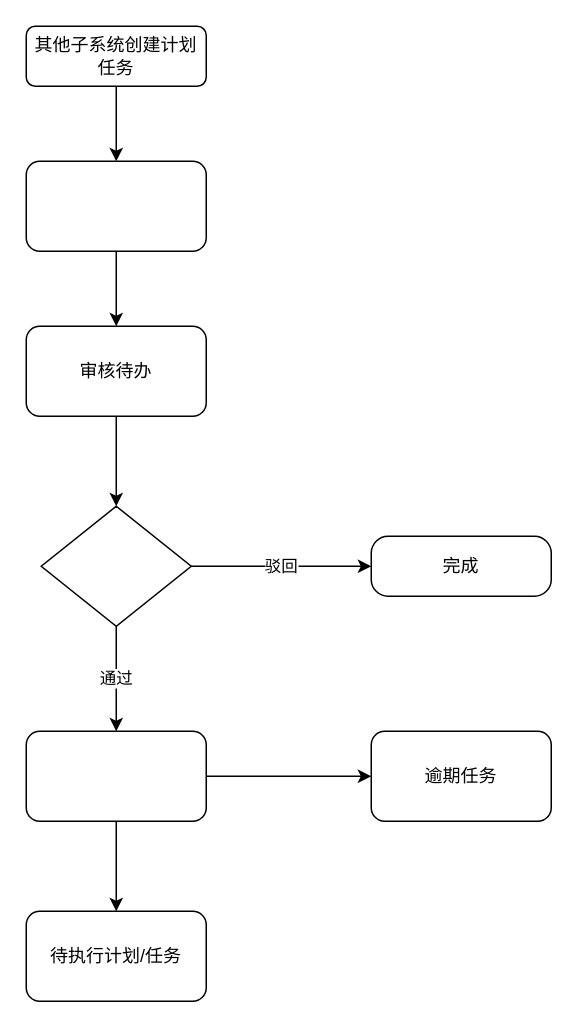
The diagram is 578 pixels wide and 1028 high, and some of its shapes have lost their labels. Each missing label, with the centre of its shape:
审核: (115,565)
待安排计划/任务: (115,775)
计划任务数据同步到当前系统: (115,205)
